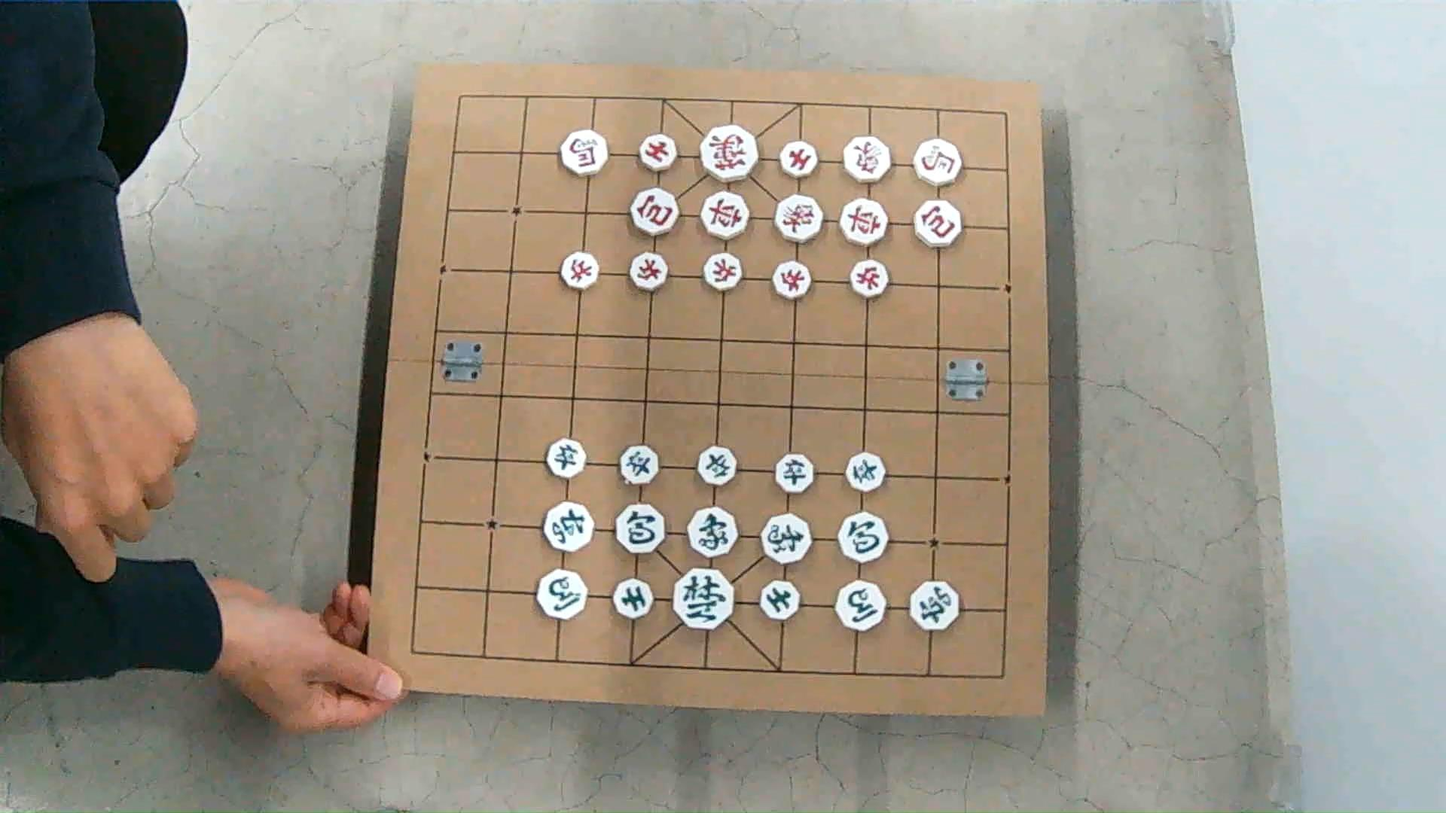cha_green: (542, 502, 592, 552), (909, 580, 957, 631)
cha_red: (700, 192, 749, 239), (840, 199, 886, 245)
jol_green: (846, 452, 886, 492), (697, 446, 736, 486), (546, 438, 585, 478), (775, 454, 813, 493), (620, 445, 657, 485)
jol_red: (629, 252, 667, 291), (703, 253, 741, 291), (773, 261, 810, 299), (850, 260, 888, 297), (560, 252, 597, 289)
ma_green: (537, 570, 585, 620), (836, 581, 884, 631)
ma_red: (914, 139, 962, 186), (560, 130, 608, 175)
po_green: (839, 512, 888, 562), (615, 504, 664, 553)
po_red: (629, 188, 677, 236), (914, 200, 960, 247)
sa_green: (760, 581, 799, 620), (614, 578, 651, 619)
sa_red: (639, 134, 677, 172), (780, 141, 818, 178)
sang_green: (761, 513, 810, 564), (688, 506, 736, 557)
sang_red: (775, 195, 822, 242), (844, 137, 890, 182)
wang_green: (672, 567, 735, 632)
wang_red: (700, 124, 757, 181)
